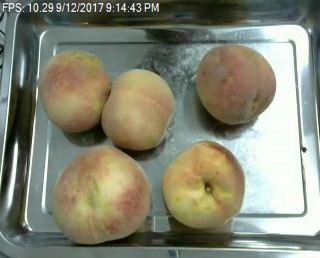Peach: (51, 146, 148, 244), (163, 140, 245, 230), (195, 42, 277, 125), (38, 48, 111, 134), (100, 68, 175, 150)
